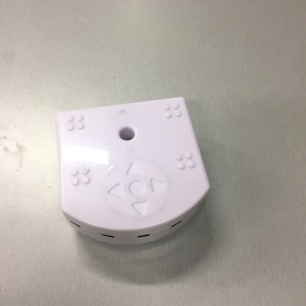thymio: (46, 93, 211, 247)
